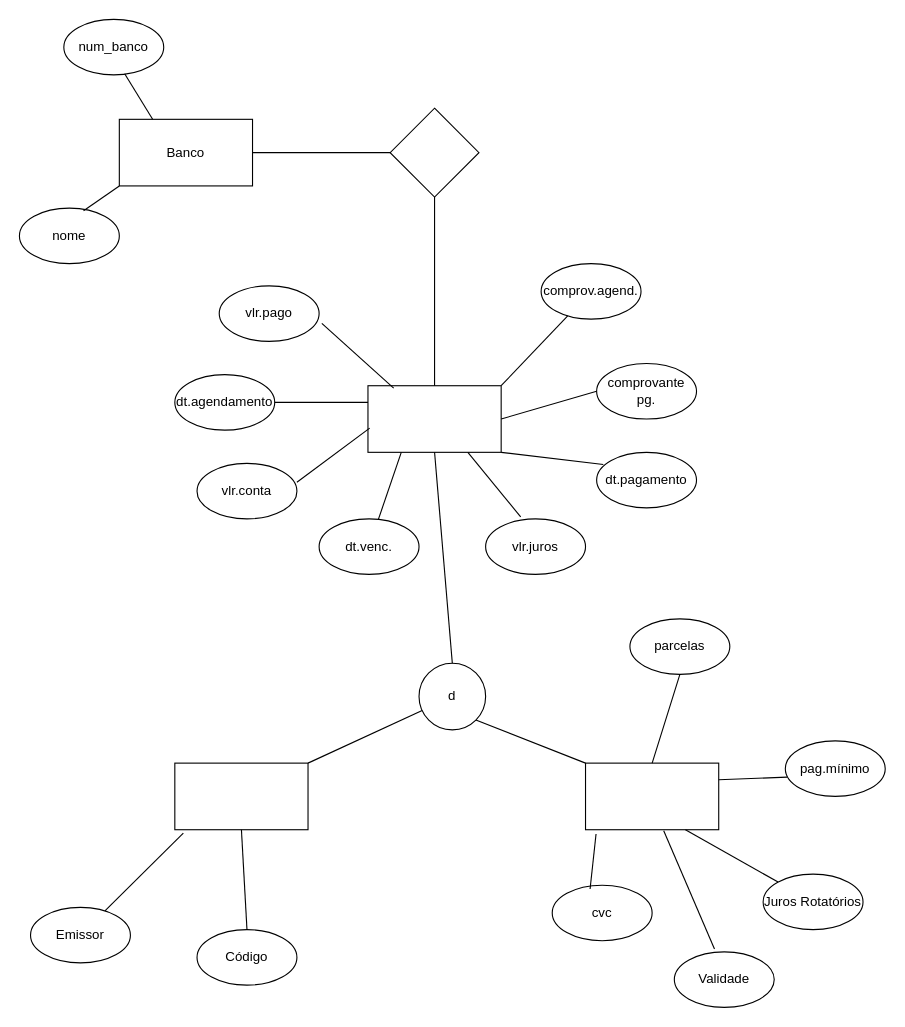
This 905x1027 diagram has some shape labels left out. The centre of each missing label's shape, as x and y in pixels:
"Boleto" goes at (241,796).
"Cartão" goes at (651,796).
"Contas" goes at (434,418).
"Tem" goes at (434,152).
